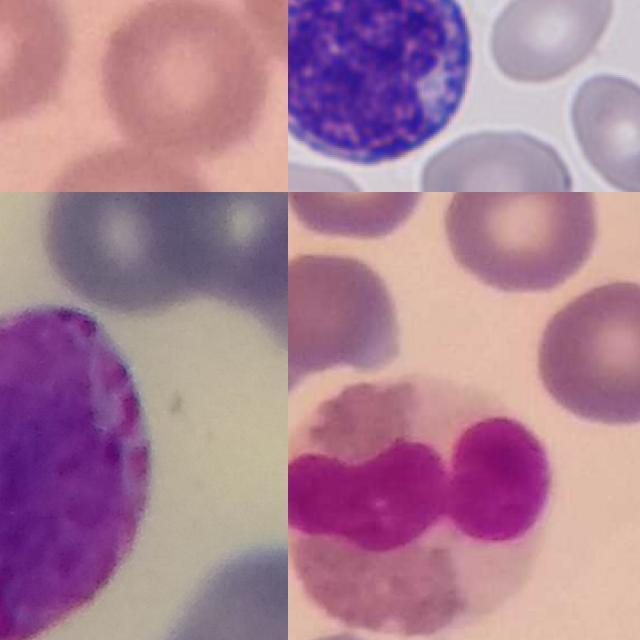Basophil: (0, 298, 153, 640)
Eosinophil: (288, 367, 555, 638)
Lymphocyte: (288, 0, 482, 176)
RBC: (482, 0, 619, 87), (413, 121, 578, 192), (564, 66, 640, 192)
